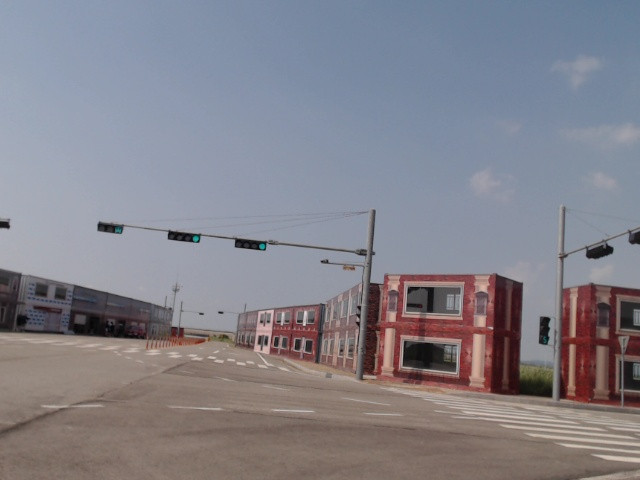straight_green_4: (167, 232, 202, 243), (234, 240, 268, 251)
